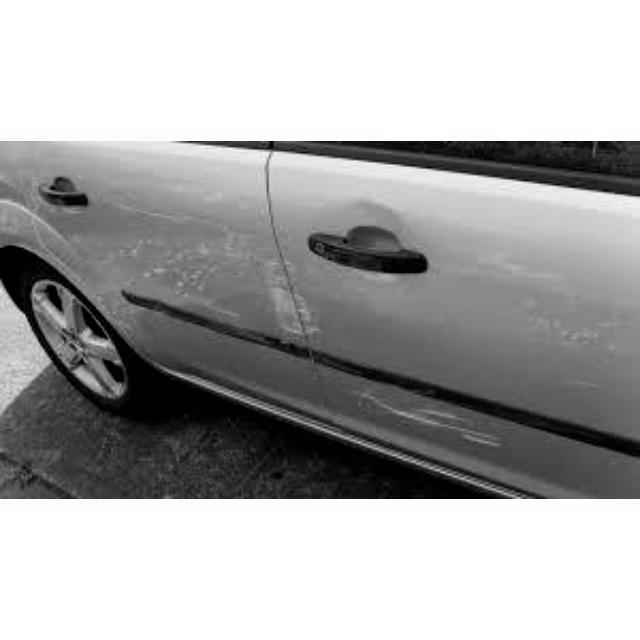doorouter-dent: (316, 159, 616, 474)
